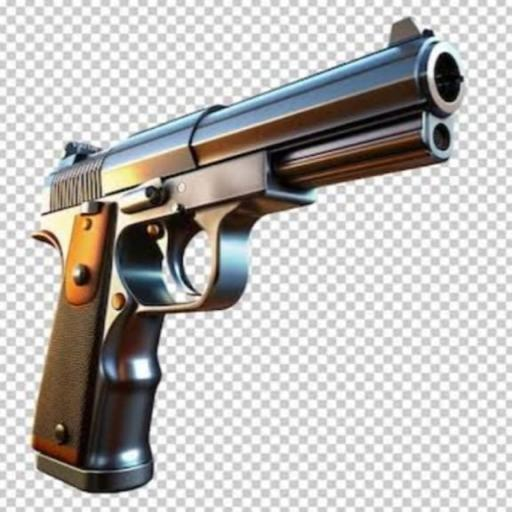Gun: (33, 19, 462, 490)
